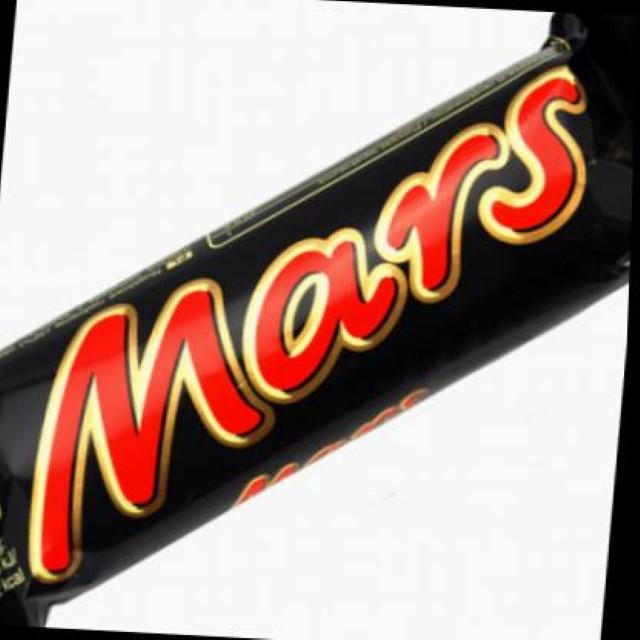mars_chocolate: (0, 49, 626, 621)
